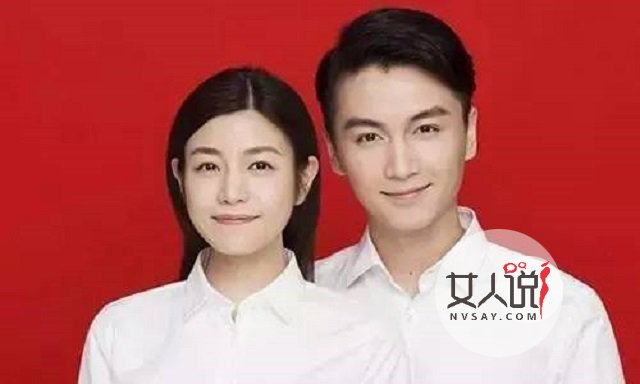unmask: (331, 77, 484, 230), (185, 112, 291, 247)
